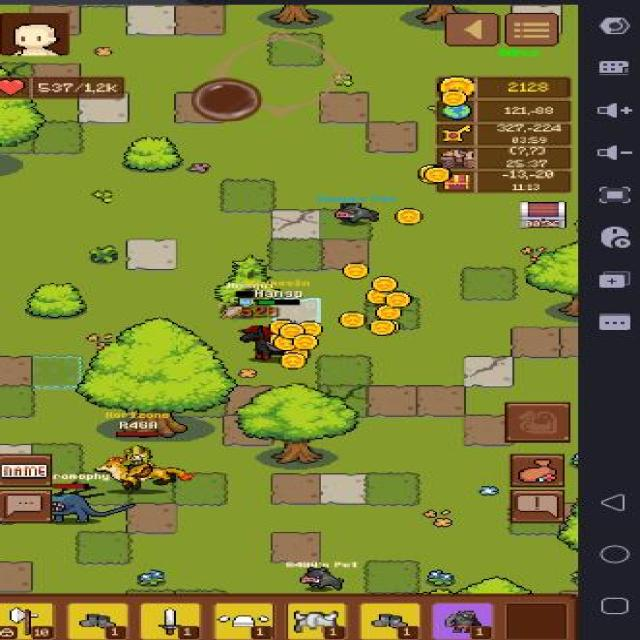ad: (516, 198, 572, 231)
astromophy: (29, 480, 140, 529)
earth_square: (219, 411, 279, 449), (222, 381, 282, 418), (172, 89, 230, 126), (269, 471, 323, 507), (271, 532, 321, 566), (512, 325, 566, 356), (365, 121, 416, 153), (365, 386, 416, 416), (317, 92, 366, 122), (126, 503, 176, 532), (176, 4, 224, 34), (323, 240, 369, 270), (416, 386, 462, 416), (462, 415, 507, 445), (0, 560, 33, 593), (558, 321, 585, 359), (0, 356, 31, 386)
grass: (426, 571, 454, 587), (136, 571, 164, 587)
gray_square: (126, 237, 176, 269), (462, 356, 513, 386), (273, 210, 321, 240), (126, 6, 176, 34), (273, 297, 323, 324), (77, 98, 126, 124), (319, 474, 364, 502)
green_square: (359, 468, 429, 509), (264, 235, 332, 275), (317, 207, 380, 246), (363, 560, 430, 596), (312, 352, 376, 389), (29, 120, 90, 158), (172, 468, 228, 507), (365, 296, 424, 332), (458, 266, 514, 300), (30, 355, 84, 390), (267, 32, 325, 64), (76, 530, 130, 564), (220, 179, 274, 210)
mouse: (94, 457, 192, 495)
player: (116, 442, 154, 473)
tree: (70, 314, 238, 436), (234, 383, 358, 465), (0, 62, 44, 182), (522, 240, 578, 314), (120, 135, 184, 171), (218, 254, 272, 288), (456, 577, 528, 593), (275, 4, 315, 24)
